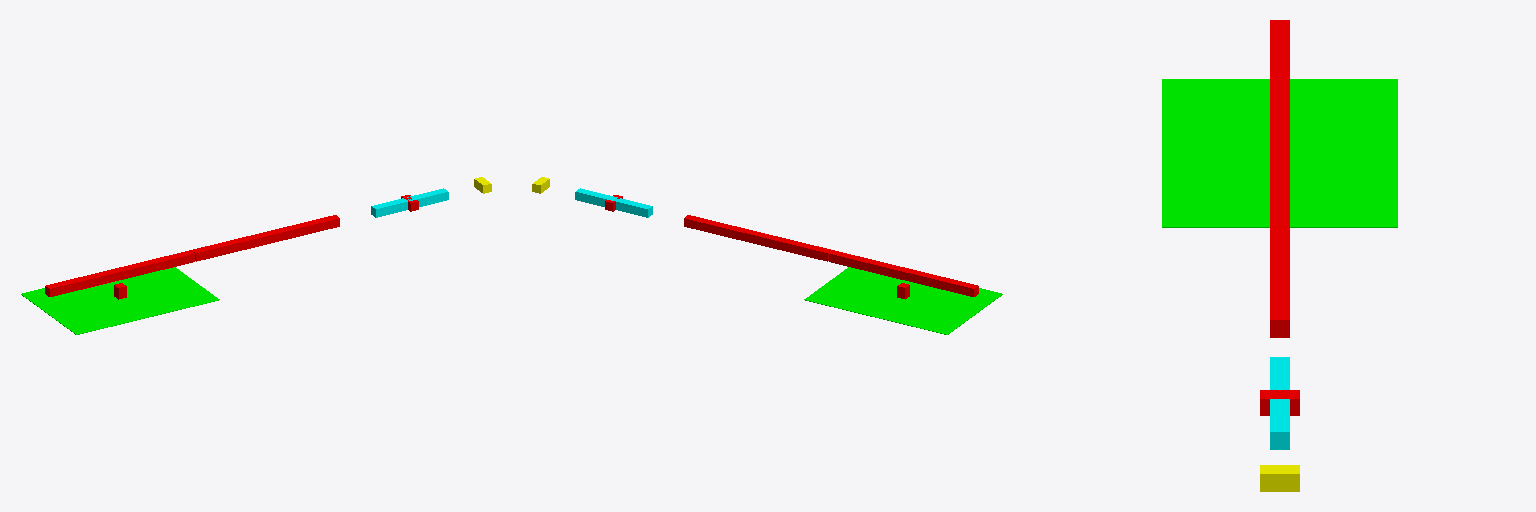
URDF robot description (rsx_arm):
<robot name="rsx_arm">
  <link name="link0_base">
    <visual>
      <origin xyz="0 0 0" rpy="0 0 0" />
      <geometry>
        <box size="35.5 24 0.1" />
      </geometry>
      <material name="Green">
        <color rgba="0 1.0 0 0.5"/>
      </material>
    </visual>
  </link>

  <link name="link1_waist">
    <visual>
      <origin xyz="0 0 0" rpy="0 0 0" />
      <geometry>
        <box size="2 2 5.5" />
      </geometry>
      <material name="Red">
        <color rgba="1.0 0 0 0.5"/>
      </material>
    </visual>
  </link>

  <link name="link2_shoulder">
    <visual>
      <origin xyz="0 0 0" rpy="0 0 0" />
      <geometry>
        <box size="36 2 2" />
      </geometry>
      <material name="Red">
        <color rgba="1.0 0 0 0.5"/>
      </material>
    </visual>
  </link>

  <link name="link3_elbow">
    <visual>
      <origin xyz="0 0 0" rpy="0 0 0" />
      <geometry>
        <box size="35.683 2 2" />
      </geometry>
      <material name="Red">
        <color rgba="1.0 0 0 0.5"/>
      </material>
    </visual>
  </link>

  <link name="link4_wrist1">
    <visual>
      <origin xyz="0 0 0" rpy="0 0 0" />
      <geometry>
        <box size="4 2 2" />
      </geometry>
      <material name="Red">
        <color rgba="1.0 0 0 0.5"/>
      </material>
    </visual>
  </link>

  <link name="link5_wrist2">
    <visual>
      <origin xyz="0 0 0" rpy="0 0 0" />
      <geometry>
        <box size="18 2 2" />
      </geometry>
      <material name="Cyan">
        <color rgba="0 1.0 1.0 0.5"/>
      </material>
    </visual>
  </link>

  <link name="link6_wrist3">
    <visual>
      <origin xyz="0 0 0" rpy="0 0 0" />
      <geometry>
        <box size="4 2 2" />
      </geometry>
      <material name="Yellow">
        <color rgba="1.0 1.0 0 0.5"/>
      </material>
    </visual>
  </link>
    


  <joint name="joint0_waist" type="continuous">
    <parent link="link0_base"/>
    <child link="link1_waist"/>
    <origin xyz="0 0 0" rpy="0 0 0" />
    <axis xyz="0 0 1" />
  </joint>
   
  <joint name="joint1_shoulder" type="continuous">
    <parent link="link1_waist"/>
    <child link="link2_shoulder"/>
    <origin xyz="0 0 5.5" rpy="1.5707963 0 0" />
    <axis xyz="0 0 1" />
  </joint>
   
  <joint name="joint2_elbow" type="continuous">
    <parent link="link2_shoulder"/>
    <child link="link3_elbow"/>
    <origin xyz="36 0 0" rpy="0 0 0" />
    <axis xyz="0 0 1" />
  </joint>

  <joint name="joint3_wrist1" type="continuous">
    <parent link="link3_elbow"/>
    <child link="link4_wrist1"/>
    <origin xyz="35.683 0 0" rpy="0 1.5707963 0" />
    <axis xyz="0 0 1" />
  </joint>

  <joint name="joint4_wrist2" type="continuous">
    <parent link="link4_wrist1"/>
    <child link="link5_wrist2"/>
    <origin xyz="0 0 0" rpy="0 -1.5707963 0" />
    <axis xyz="0 0 1" />
  </joint>

  <joint name="joint5_wrist3" type="continuous">
    <parent link="link5_wrist2"/>
    <child link="link6_wrist3"/>
    <origin xyz="18 0 0" rpy="0 1.5707963 0" />
    <axis xyz="0 0 1" />
  </joint>
</robot>

--- Facts derived from the render (not from the file) ---
Views: 3 orthographic renders of the robot side by side, from view 1: azimuth 30°, elevation 25°; view 2: azimuth 150°, elevation 25°; view 3: azimuth 270°, elevation 25°.
Robot: rsx_arm — 7 links, 6 joints (6 continuous); root link link0_base; default pose: all joints at 0.
Links seen in each view (by area): view 1: link0_base, link2_shoulder, link3_elbow, link5_wrist2; view 2: link0_base, link2_shoulder, link3_elbow, link5_wrist2; view 3: link0_base, link3_elbow, link2_shoulder, link5_wrist2, link6_wrist3, link4_wrist1.
Link boxes in pixels (x1,y1,x2,y2): link0_base: (21,267,219,334); link2_shoulder: (45,250,194,296); link3_elbow: (191,215,339,261); link5_wrist2: (371,188,448,217); link0_base: (804,267,1002,334); link2_shoulder: (829,250,978,296); link3_elbow: (684,215,832,261); link5_wrist2: (575,188,652,217); link0_base: (1162,79,1397,227); link3_elbow: (1270,171,1289,337); link2_shoulder: (1270,20,1289,170); link5_wrist2: (1270,357,1289,449); link6_wrist3: (1260,465,1299,491); link4_wrist1: (1260,390,1299,415).
Size in the robot's own frame: 109 by 24 by 9.25 metres.
Geometry: primitives only (box / cylinder / sphere), no mesh files.